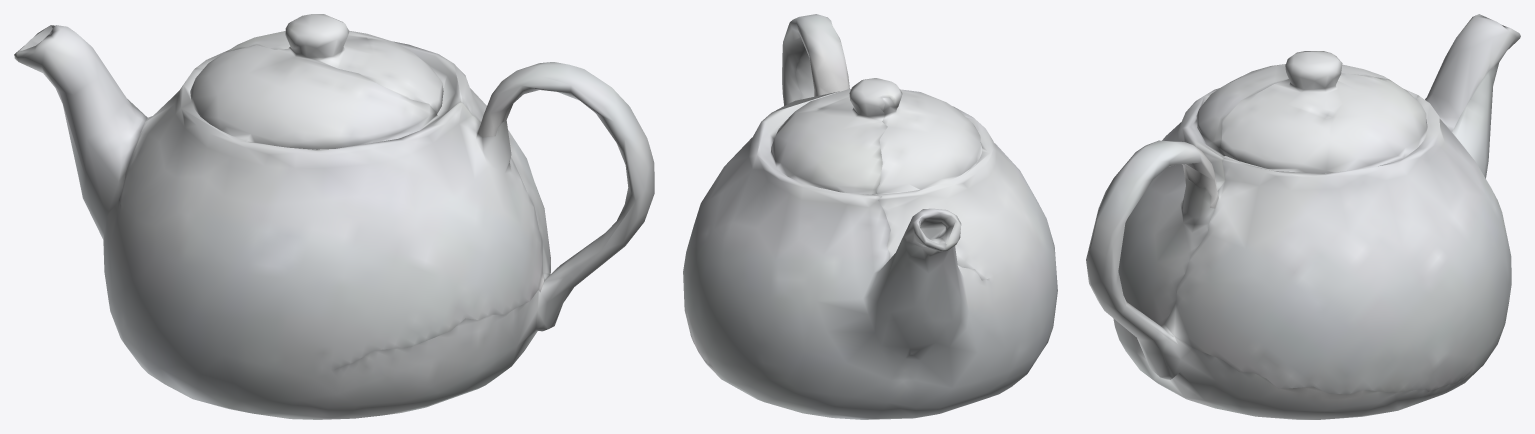
File: Threshold_Porcelain_Teapot_White-medium.glb
3 views of the same model, side by side, from view 1: azimuth 30°, elevation 25°; view 2: azimuth 150°, elevation 25°; view 3: azimuth 270°, elevation 25° (orthographic). The views are drawn at different scales.
Parts seen in each view (by area): view 1: Threshold_Porcelain_Teapot_White; view 2: Threshold_Porcelain_Teapot_White; view 3: Threshold_Porcelain_Teapot_White.
Part boxes in pixels (x1=…): Threshold_Porcelain_Teapot_White: x1=14, y1=14, x2=654, y2=419; Threshold_Porcelain_Teapot_White: x1=683, y1=14, x2=1057, y2=419; Threshold_Porcelain_Teapot_White: x1=1086, y1=14, x2=1520, y2=419.
Bounding box in the file's own units: 0.1866 × 0.1361 × 0.1843.
1 material, 1 textured.
